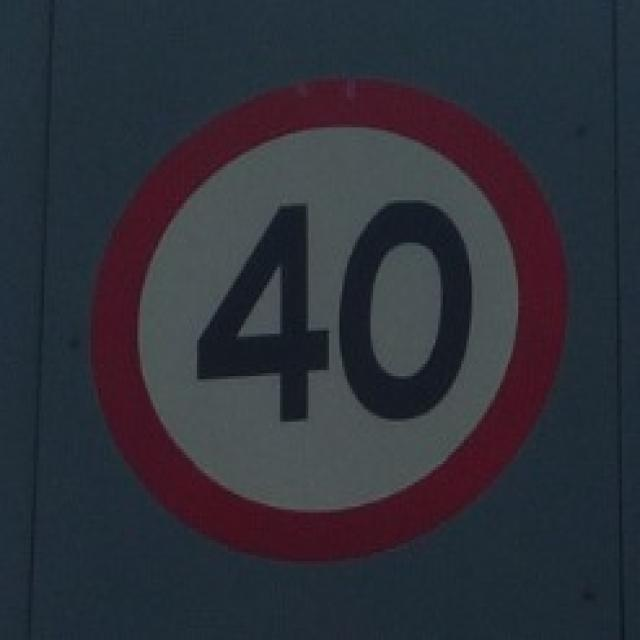Speed Limit -40-: (193, 194, 479, 433)
